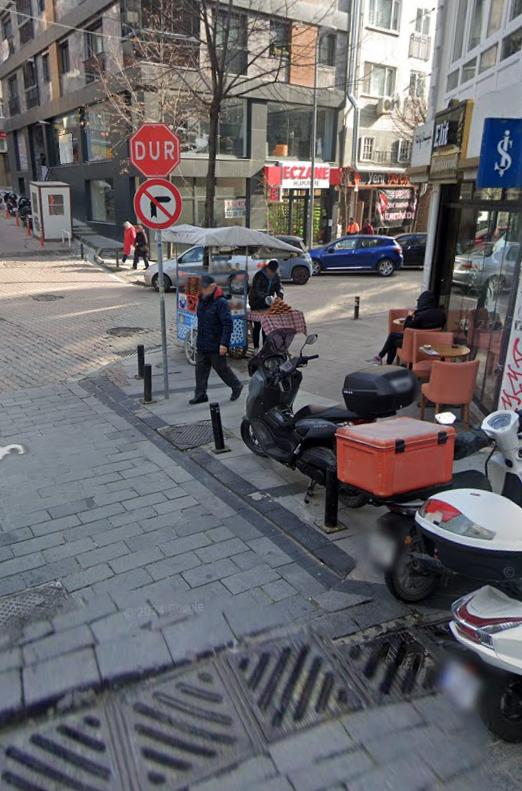rightturnsareforbidden: (136, 179, 178, 226)
stop: (132, 121, 179, 177)
